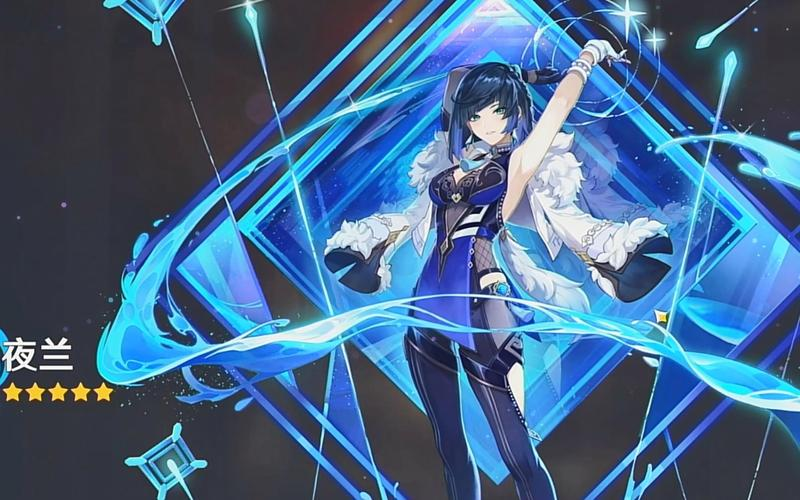夜兰: (389, 37, 633, 500)
